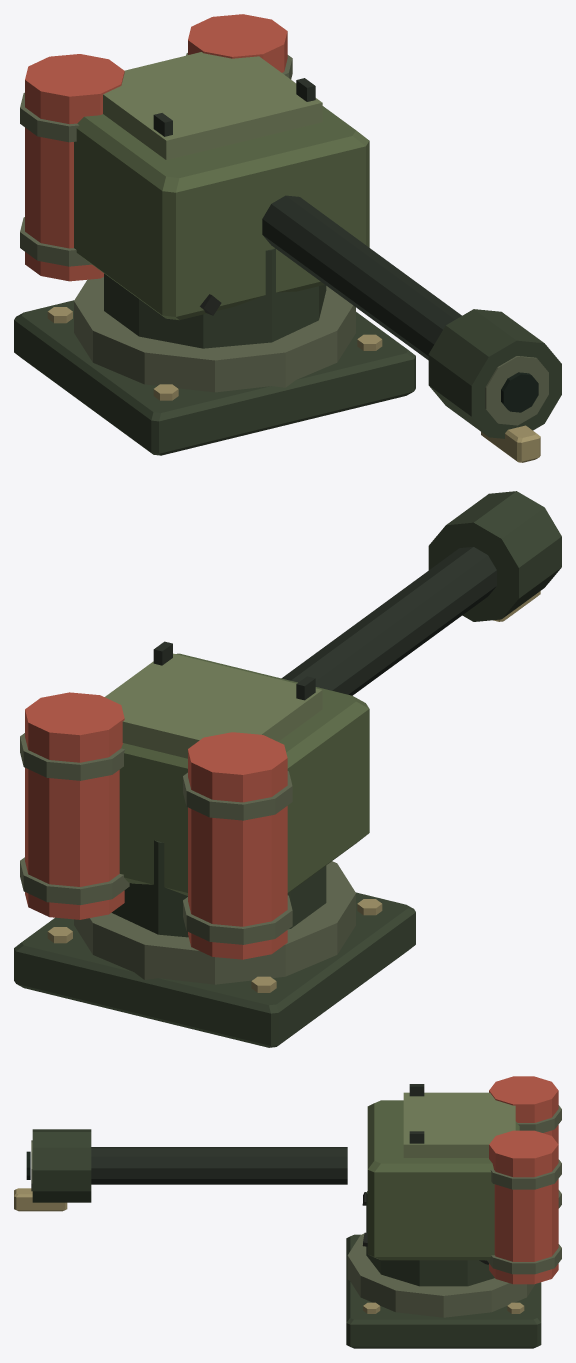
File: flamethrower.obj
3 renders of one model, top to bottom at view 1: azimuth 30°, elevation 25°; view 2: azimuth 150°, elevation 25°; view 3: azimuth 270°, elevation 25°, orthographic. The views are drawn at different scales.
Parts seen in each view (by area): view 1: MOVING.006, BASE.015; view 2: MOVING.006, BASE.015; view 3: MOVING.006, BASE.015.
Boxes of the visible parts, x1,y1,x2,y2 form: MOVING.006: (20,14,561,462); BASE.015: (14,277,415,455); MOVING.006: (20,491,561,959); BASE.015: (14,861,415,1047); MOVING.006: (14,1076,561,1286); BASE.015: (346,1233,541,1348).
Bounding box in the file's own units: 0.78 × 0.815 × 2.05.
1 material, 1 textured.
